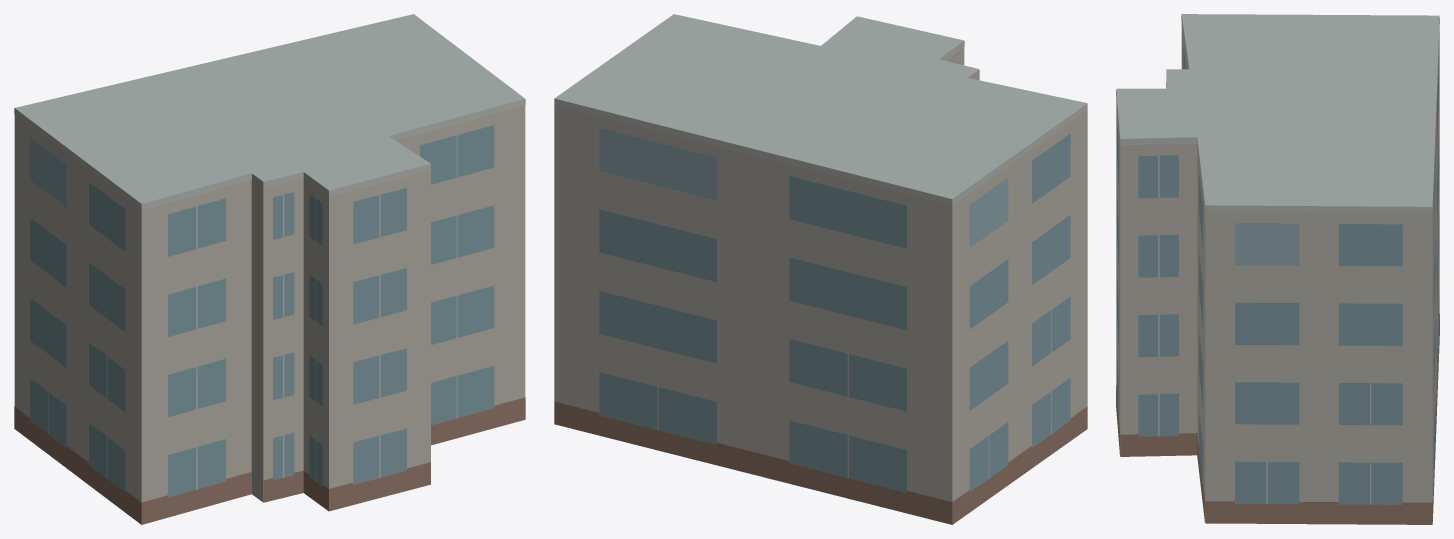
Rendered from survey-upis-32959034.glb.
3 renders of one model, left to right at view 1: azimuth 30°, elevation 25°; view 2: azimuth 150°, elevation 25°; view 3: azimuth 270°, elevation 25°, orthographic. The views are drawn at different scales.
Visible parts, largest first — view 1: survey-upis-32959034.tmp; view 2: survey-upis-32959034.tmp; view 3: survey-upis-32959034.tmp.
Boxes of the visible parts, x1,y1,x2,y2 form: survey-upis-32959034.tmp: (14,14,525,524); survey-upis-32959034.tmp: (554,14,1087,524); survey-upis-32959034.tmp: (1116,14,1439,524).
Size of the model in its own units: 15.75 by 12.1 by 11.17.
